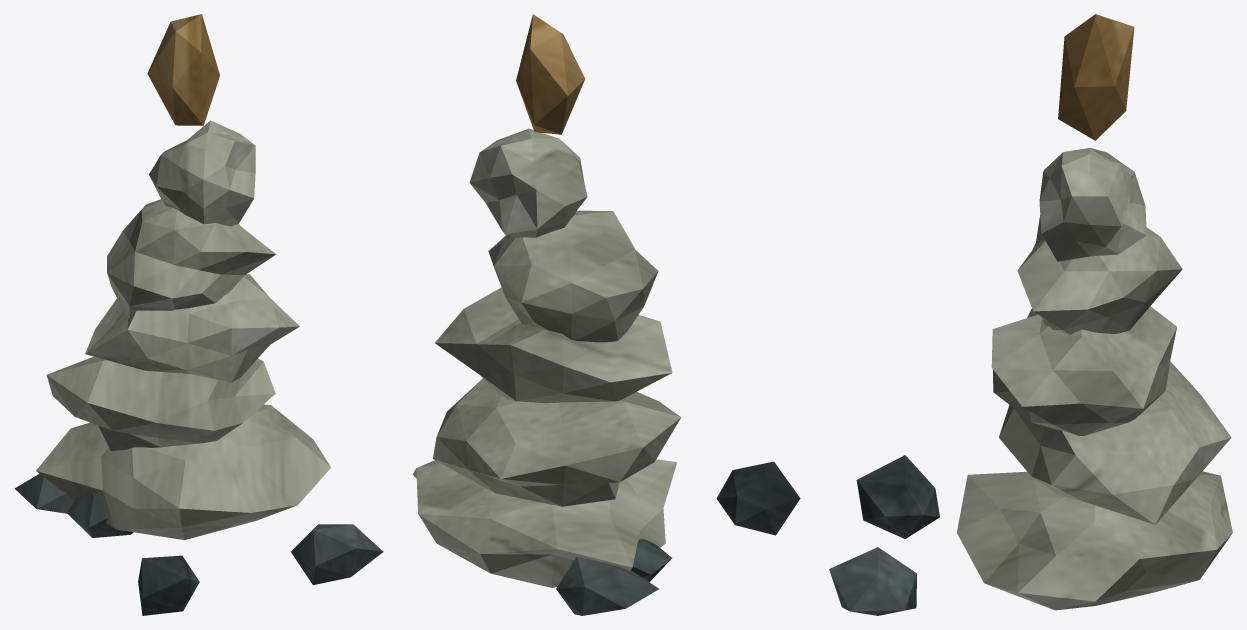
Rendered from 0611_cairn_11.glb.
3 renders of one model, left to right at view 1: azimuth 30°, elevation 25°; view 2: azimuth 150°, elevation 25°; view 3: azimuth 270°, elevation 25°, orthographic. The views are drawn at different scales.
Visible parts, largest first — view 1: stone_light, stone_dark, brass; view 2: stone_light, stone_dark, brass; view 3: stone_light, stone_dark, brass.
Boxes of the visible parts, <box> form: stone_light: <box>36,120,330,540</box>; stone_dark: <box>14,474,383,615</box>; brass: <box>147,14,219,125</box>; stone_light: <box>412,128,681,587</box>; stone_dark: <box>556,461,800,615</box>; brass: <box>516,14,585,134</box>; stone_light: <box>957,148,1232,610</box>; stone_dark: <box>829,455,939,615</box>; brass: <box>1058,14,1134,140</box>.
Size of the model in its own units: 1.17 by 2.14 by 1.34.
Materials: 3 (3 with a texture image).
